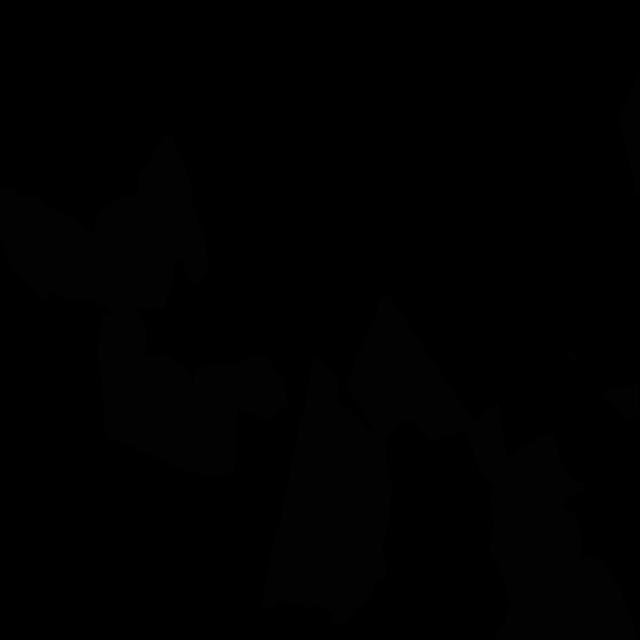cardboard: (94, 132, 289, 476), (474, 404, 636, 640), (262, 358, 392, 625), (346, 294, 477, 456), (0, 187, 121, 313), (618, 71, 640, 196), (603, 382, 640, 423), (566, 351, 576, 364)
